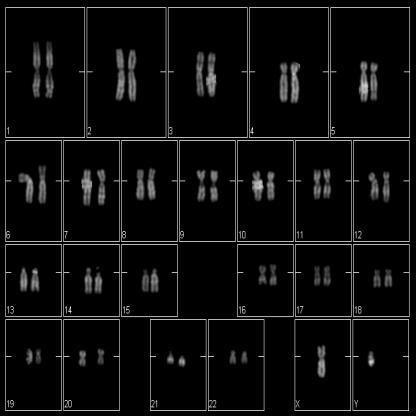1: (28, 41, 44, 106), (42, 42, 58, 107)
10: (265, 163, 282, 205), (248, 162, 264, 204)
11: (310, 164, 322, 204), (322, 164, 334, 204)
12: (379, 167, 394, 204), (366, 168, 380, 205)
13: (18, 260, 29, 296), (29, 262, 40, 297)
14: (82, 262, 95, 294), (94, 263, 107, 295)
15: (140, 266, 151, 295), (150, 266, 160, 296)
16: (256, 262, 269, 292), (268, 261, 281, 291)
17: (312, 260, 320, 288), (323, 260, 330, 288)
18: (371, 268, 385, 296), (383, 264, 394, 295)
19: (33, 341, 44, 367), (24, 342, 34, 368)
2: (113, 42, 126, 104), (126, 42, 138, 104)
20: (93, 346, 105, 367), (76, 348, 88, 368)
21: (163, 347, 176, 367), (176, 347, 189, 367)
22: (238, 346, 250, 364), (226, 345, 237, 363)
3: (205, 49, 217, 99), (194, 48, 205, 99)
4: (288, 57, 300, 105), (277, 57, 289, 104)
5: (369, 56, 382, 102), (356, 57, 368, 104)
6: (12, 164, 36, 209), (36, 164, 52, 210), (78, 165, 93, 206), (95, 165, 110, 206)
8: (144, 164, 156, 204), (135, 164, 146, 204)
9: (206, 165, 221, 209), (193, 165, 207, 209)
X: (313, 342, 327, 378)
Y: (365, 348, 377, 376)
